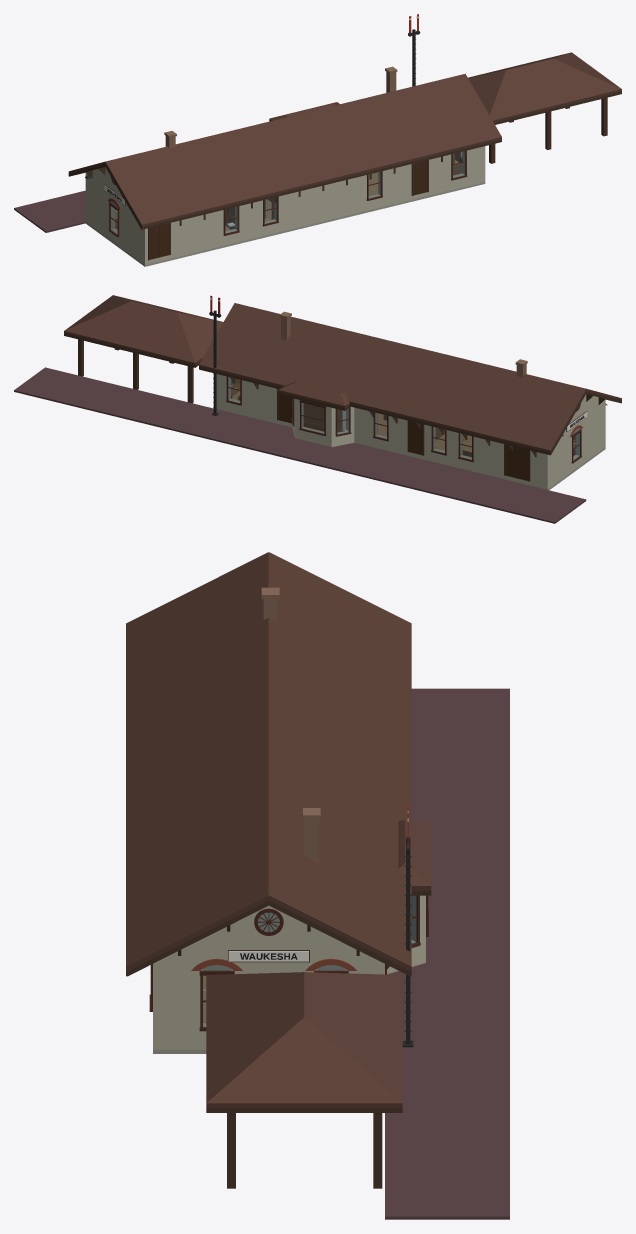
The model's file is Waukesha_Depot.glb.
The picture shows the model from 3 angles, top to bottom: view 1: azimuth 30°, elevation 25°; view 2: azimuth 150°, elevation 25°; view 3: azimuth 270°, elevation 25°; orthographic projection. The views are drawn at different scales.
Parts seen in each view (by area): view 1: roof, brick, trim, platform, glass, doors, foundation, sash, chimney, wainscot; view 2: roof, platform, brick, trim, glass, doors, sash, wainscot, foundation, chimney, floor, iron (+1 smaller); view 3: roof, platform, brick, trim, sash, chimney, iron, glass.
Part boxes in pixels (x1=…): roof: x1=68, y1=52, x2=621, y2=226; brick: x1=85, y1=146, x2=485, y2=264; trim: x1=68, y1=91, x2=621, y2=260; platform: x1=14, y1=190, x2=85, y2=232; glass: x1=111, y1=151, x2=464, y2=233; doors: x1=150, y1=160, x2=427, y2=259; foundation: x1=85, y1=182, x2=485, y2=266; sash: x1=109, y1=150, x2=467, y2=237; chimney: x1=164, y1=66, x2=397, y2=148; wainscot: x1=115, y1=152, x2=462, y2=229; roof: x1=64, y1=295, x2=621, y2=452; platform: x1=14, y1=367, x2=586, y2=523; brick: x1=216, y1=374, x2=605, y2=489; trim: x1=64, y1=333, x2=621, y2=481; glass: x1=228, y1=377, x2=579, y2=460; doors: x1=278, y1=395, x2=528, y2=480; sash: x1=226, y1=376, x2=581, y2=463; wainscot: x1=236, y1=379, x2=575, y2=454; foundation: x1=217, y1=409, x2=605, y2=490; chimney: x1=279, y1=311, x2=527, y2=377; floor: x1=232, y1=391, x2=575, y2=451; iron: x1=209, y1=310, x2=575, y2=444; roof: x1=126, y1=552, x2=431, y2=1108; platform: x1=385, y1=688, x2=509, y2=1219; brick: x1=153, y1=895, x2=425, y2=1049; trim: x1=126, y1=891, x2=431, y2=1188; sash: x1=149, y1=895, x2=428, y2=1031; chimney: x1=261, y1=587, x2=320, y2=862; iron: x1=402, y1=837, x2=413, y2=1047; glass: x1=203, y1=896, x2=416, y2=1026.
Bounding box in the file's own units: 1.47 × 0.3101 × 0.4519.
